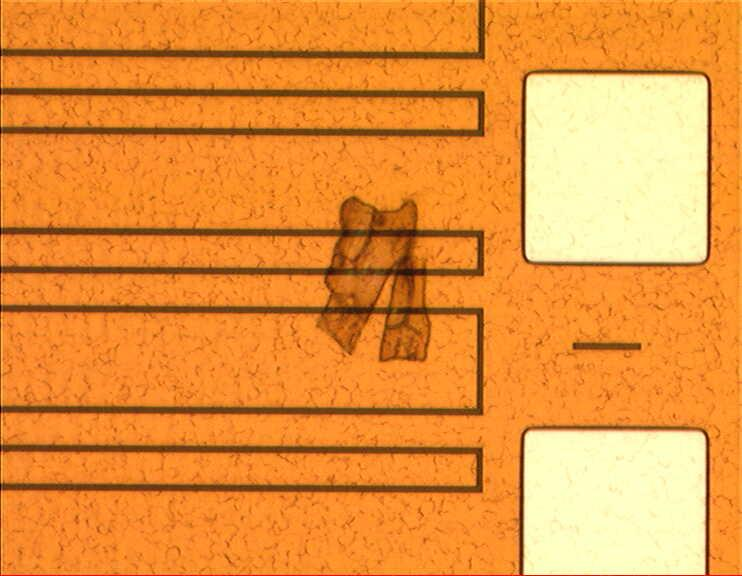PIQ PARTICLE: (313, 196, 435, 363)
